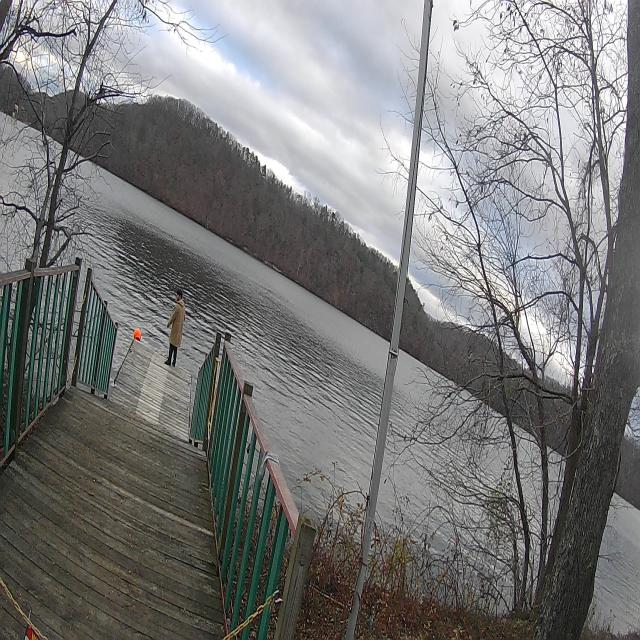Buoy: (132, 324, 142, 343)
